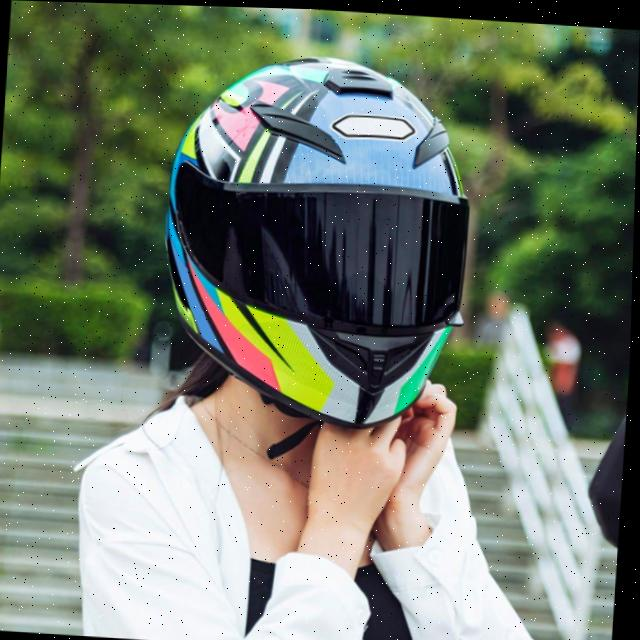helmet: (145, 37, 486, 442)
